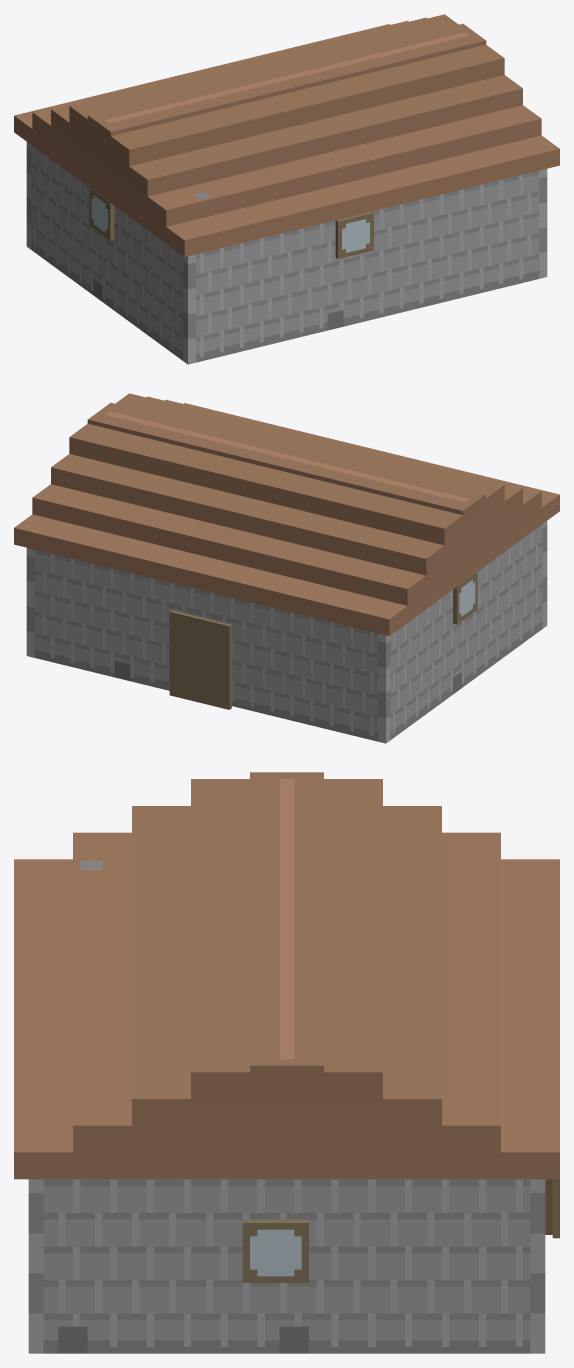
Rendered from vidrieria_04.glb.
3 renders of one model, top to bottom at view 1: azimuth 30°, elevation 25°; view 2: azimuth 150°, elevation 25°; view 3: azimuth 270°, elevation 25°, orthographic. The views are drawn at different scales.
Visible parts, largest first — view 1: vidrieria_04; view 2: vidrieria_04; view 3: vidrieria_04.
Boxes of the visible parts, x1,y1,x2,y2 form: vidrieria_04: (14, 14, 559, 364); vidrieria_04: (14, 393, 559, 743); vidrieria_04: (14, 772, 559, 1353).
Bounding box in the file's own units: 9.4 × 4.4 × 7.4.
